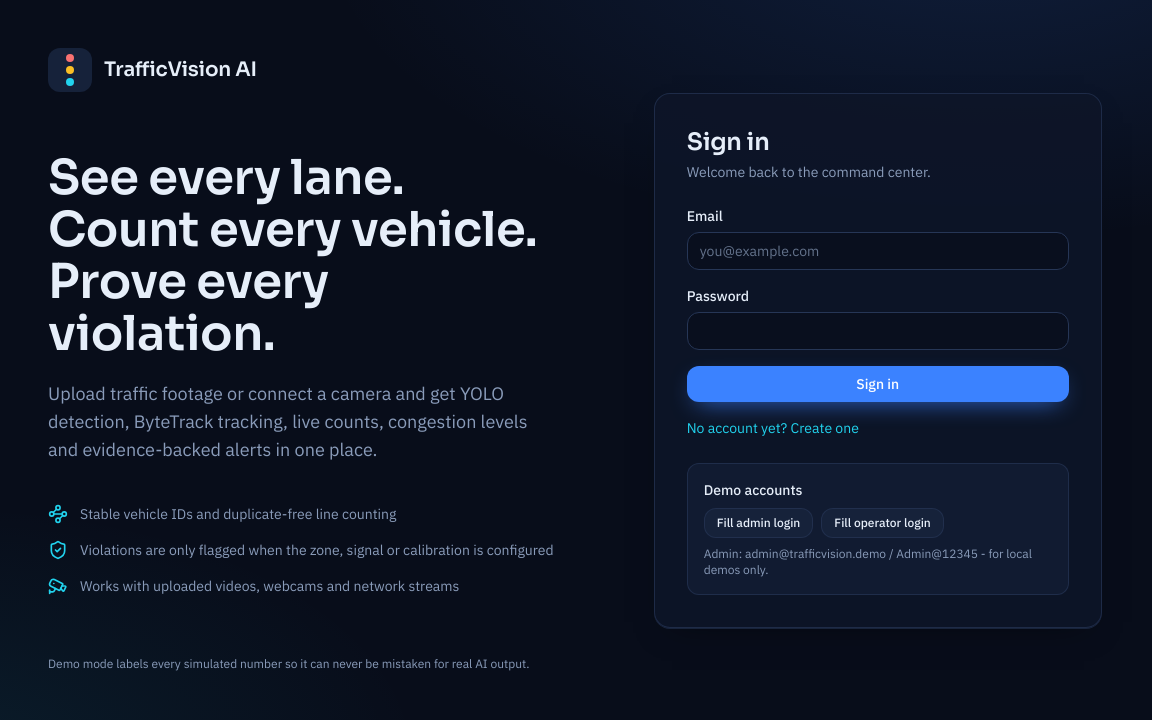
Login › signs in with valid credentials and shows backend errors
The image size is (1152, 720).
Step 1. Type "a@b.co" into the field labelled "Email" → (878, 250), box [687,232,1069,270]
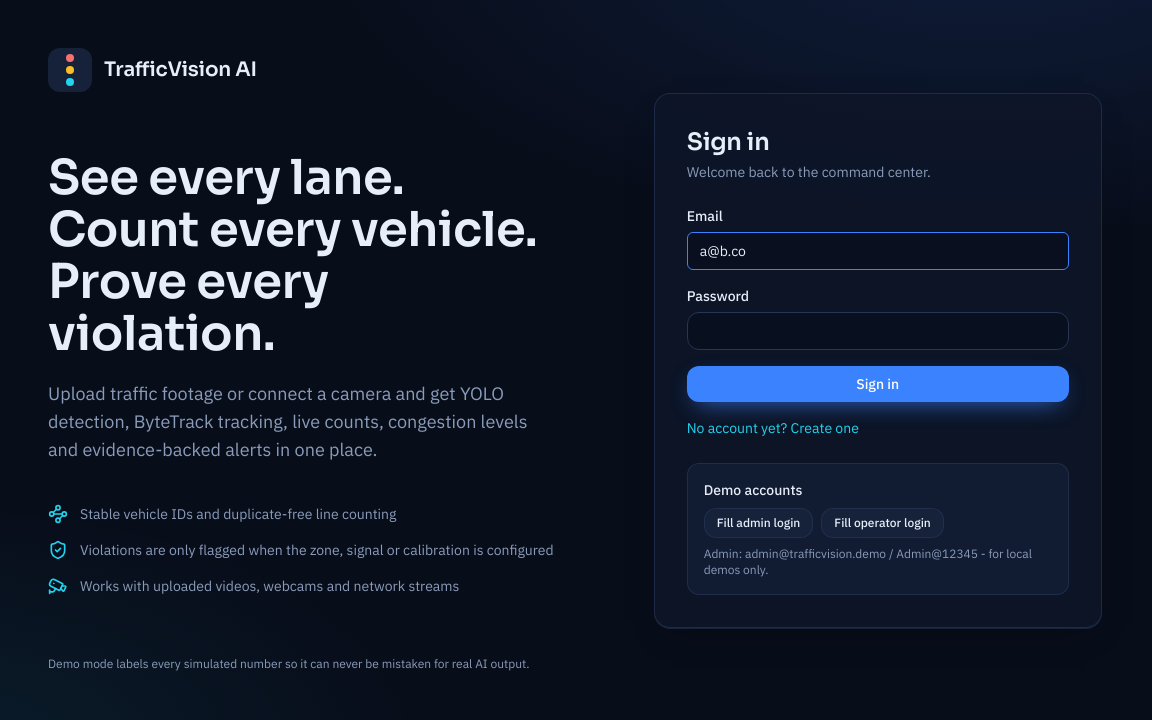
Step 2. Type "whatever1" into the password field labelled "Password" → (878, 330), box [687,312,1069,350]
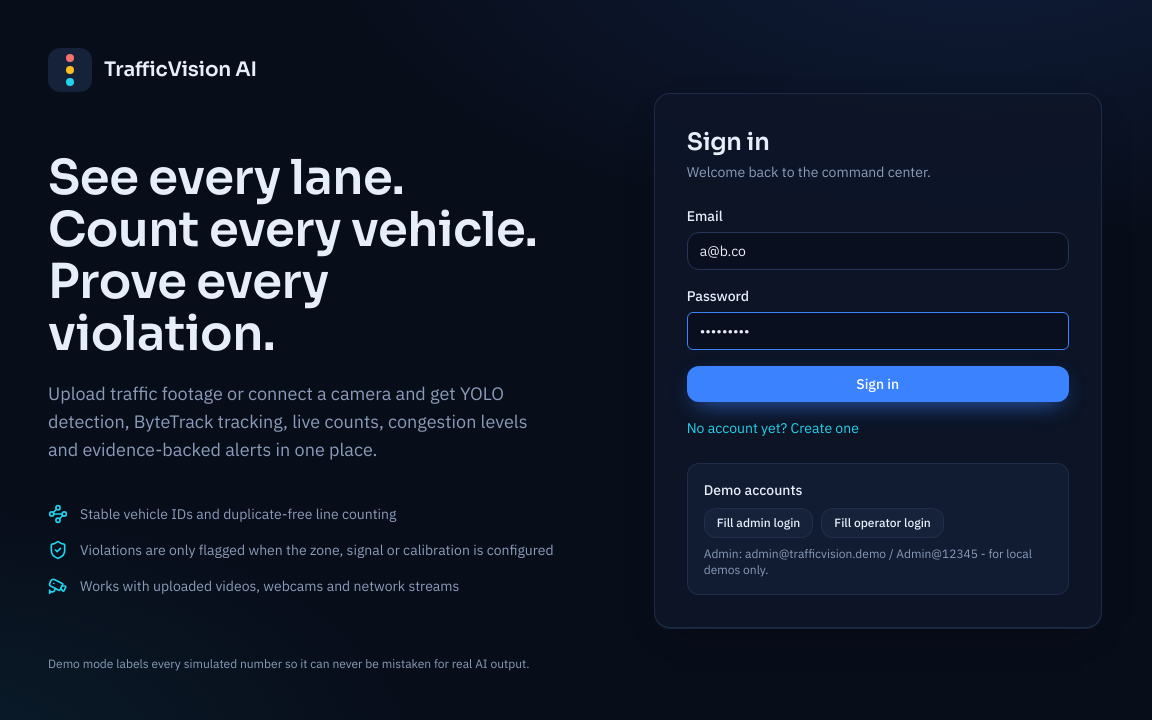
Step 3. Click the button "Sign in" → (878, 384), box [687,366,1069,402]
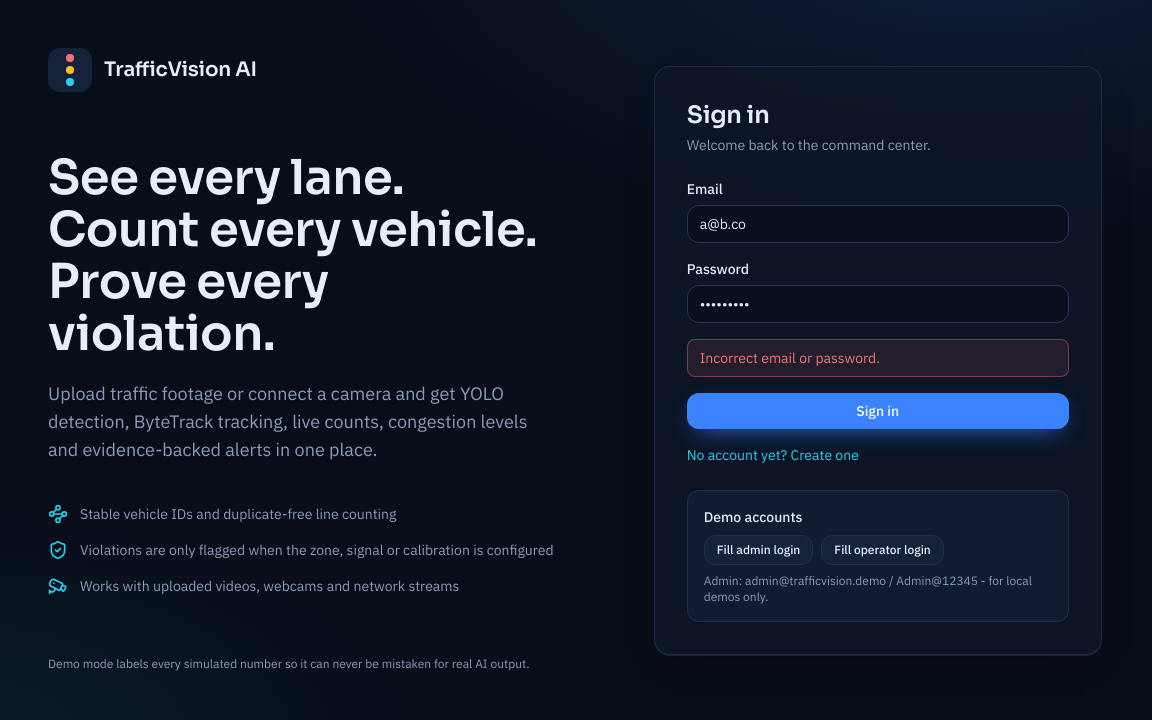
Expected: the message reads "Incorrect email or password.", [700,348,880,366]
